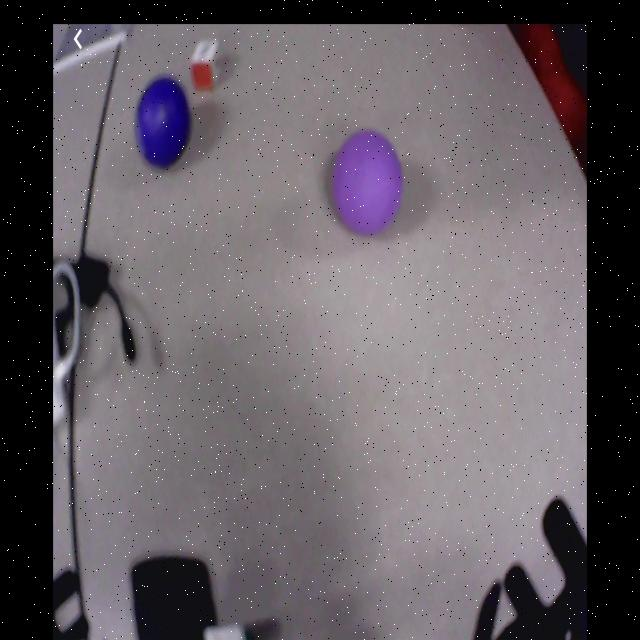ball: (332, 131, 401, 241), (135, 74, 192, 170)
